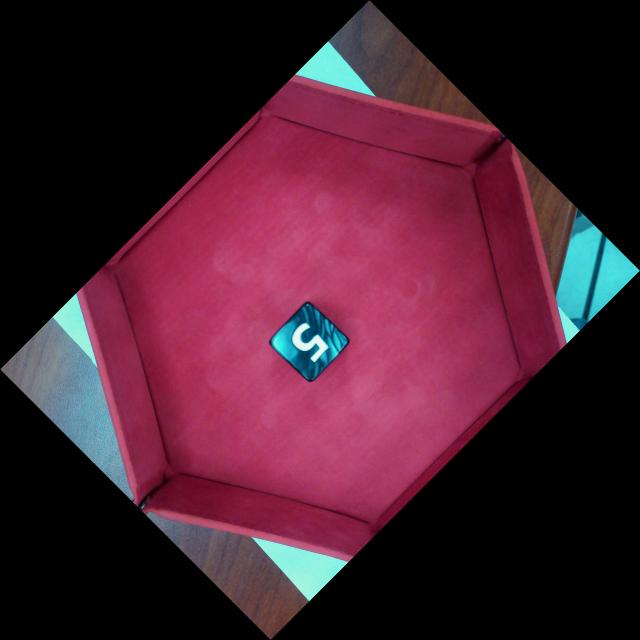dice: (276, 302, 349, 382)
